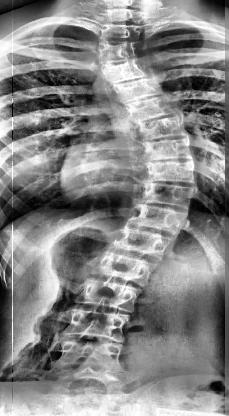Vertebrae: (50, 366, 130, 402), (89, 249, 159, 288), (74, 276, 142, 314), (53, 339, 127, 373), (64, 308, 130, 344), (110, 225, 174, 259), (129, 202, 191, 236), (142, 158, 200, 188), (141, 180, 199, 210), (120, 94, 182, 122), (140, 135, 196, 163), (134, 115, 194, 140), (108, 76, 168, 100), (98, 59, 150, 83), (99, 21, 145, 45), (94, 41, 142, 63), (102, 8, 146, 24)
